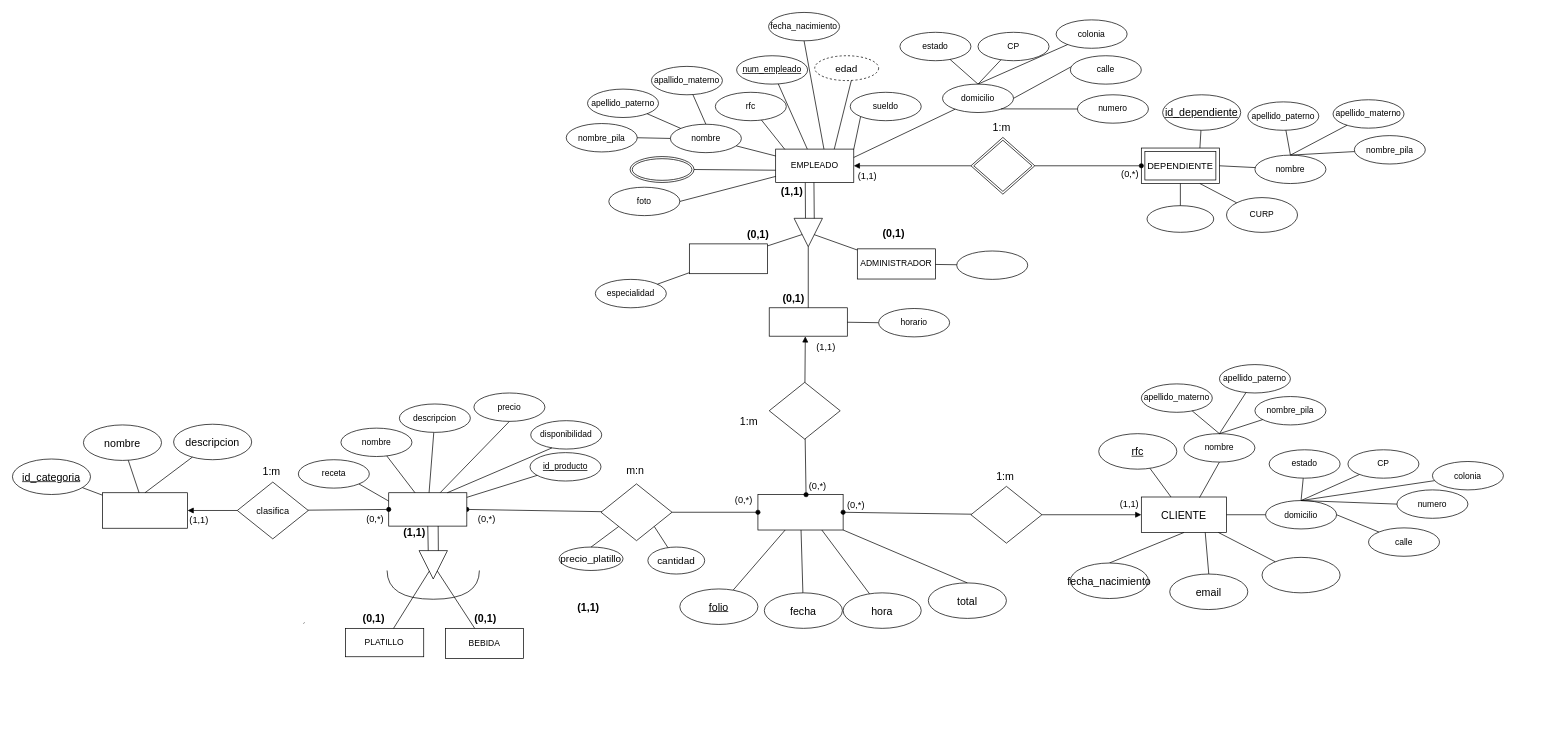
The diagram is 1566 pixels wide and 741 high, and some of its shapes have lost their labels. The shapes that lost their labels are listed below. From the top down, each one's centre as x and y in pixels, then its label:
the point at 661,169: telefonos
the point at 1002,165: tiene
the point at 1180,218: parentesco
the point at 728,258: COCINERO
the point at 992,264: rol
the point at 808,321: MESERO
the point at 804,410: levanta
the point at 145,510: CATEGORIA
the point at 427,509: PRODUCTO
the point at 636,512: contiene
the point at 800,512: ORDEN
the point at 1006,514: factura
the point at 1300,575: razon_social
